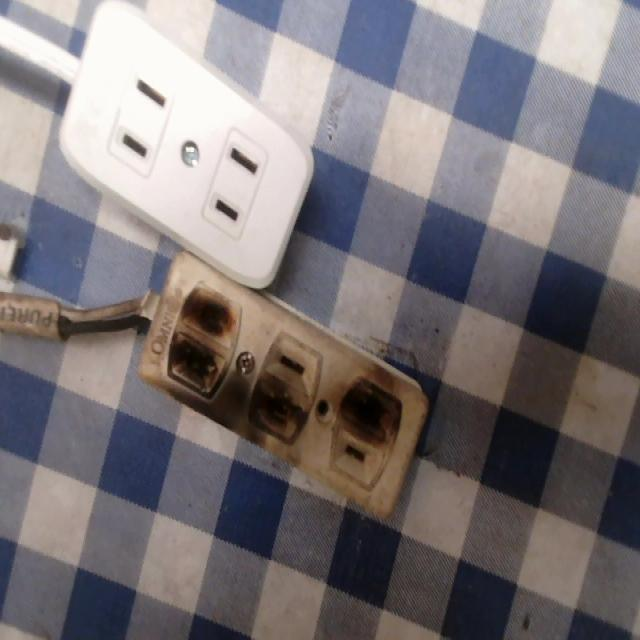-: (165, 278, 243, 418), (339, 364, 409, 453), (248, 378, 304, 462)
